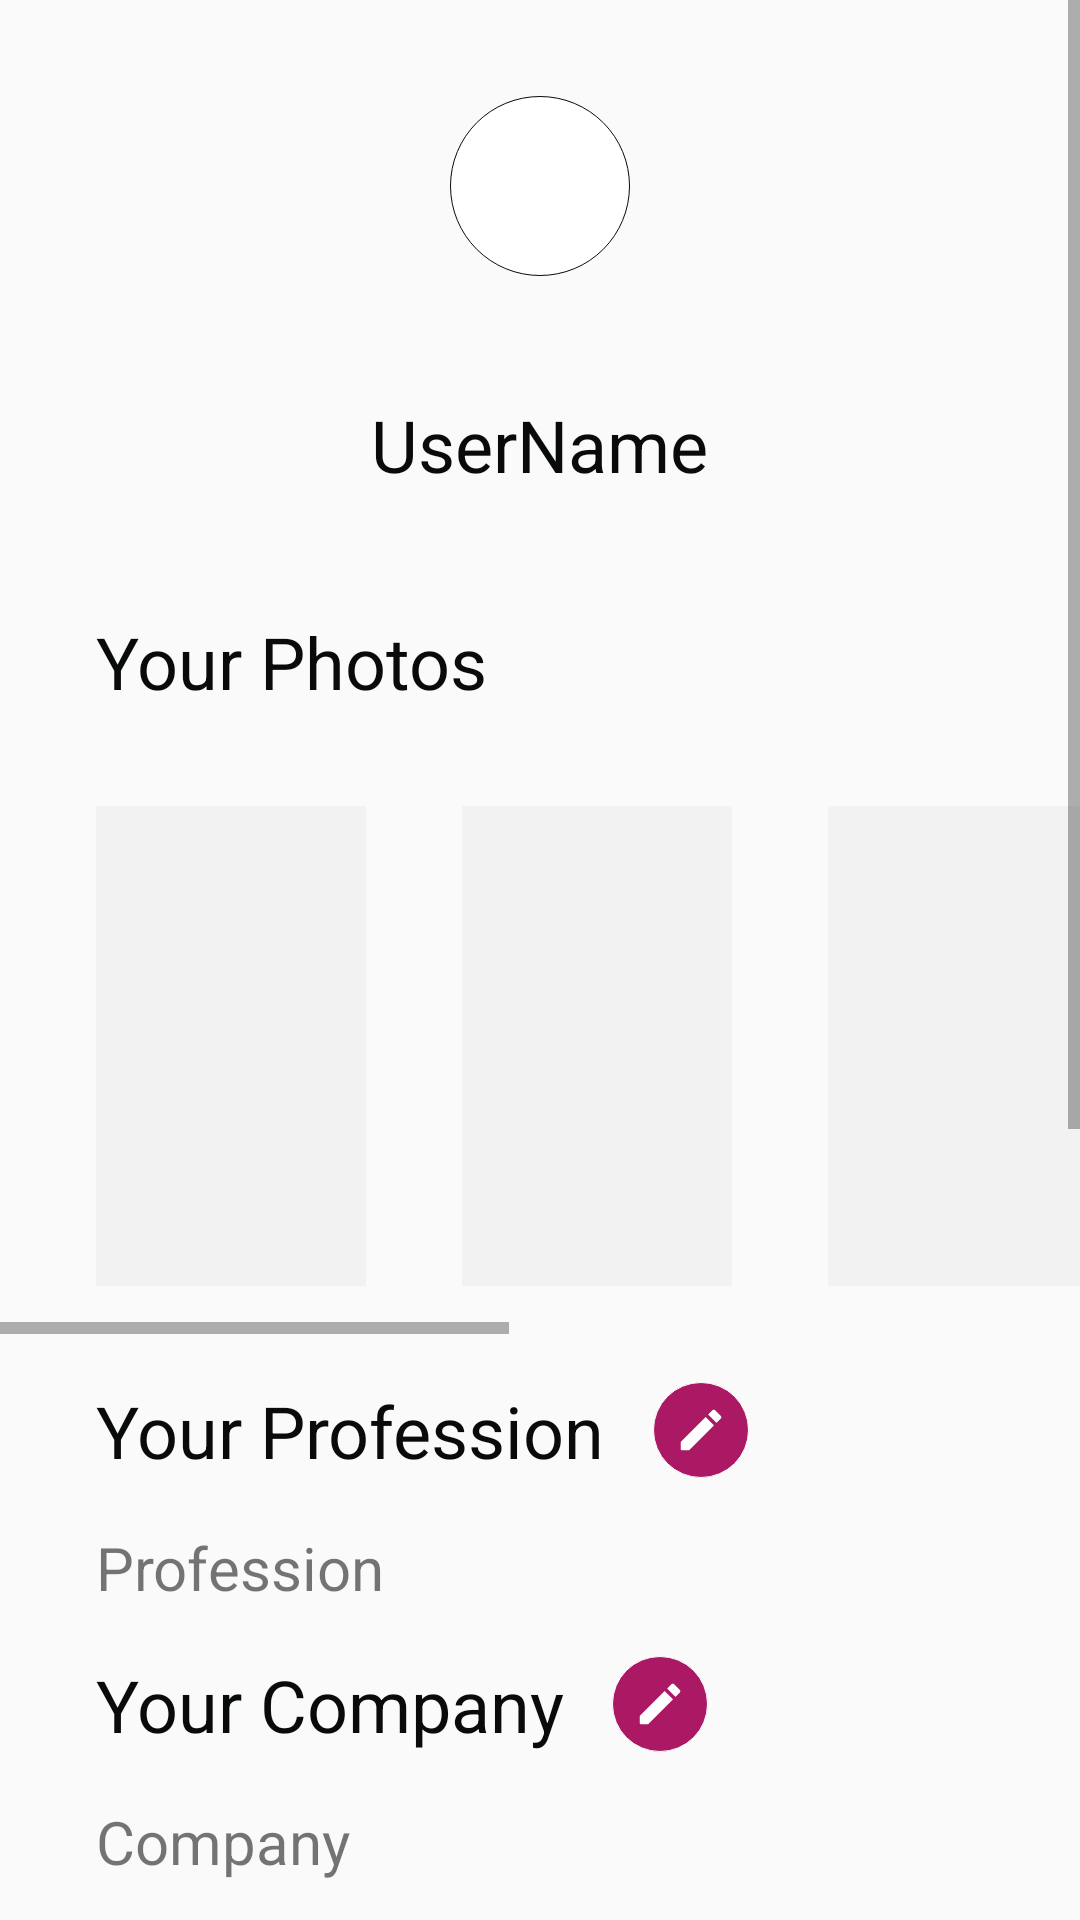

Named icons in this screenshot (1080×1920) and their centers, point (x, y):
create: point (701, 1430), point (660, 1704)
